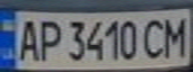0: (118, 17, 142, 61)
1: (103, 17, 121, 61)
3: (63, 17, 87, 62)
4: (84, 17, 106, 62)
A: (12, 16, 42, 62)
C: (139, 16, 169, 61)
M: (160, 12, 190, 59)
P: (33, 16, 63, 62)
